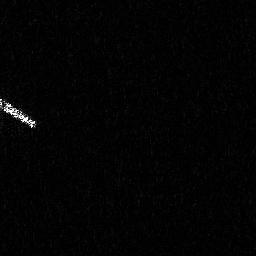ship: (1, 95, 38, 129)
